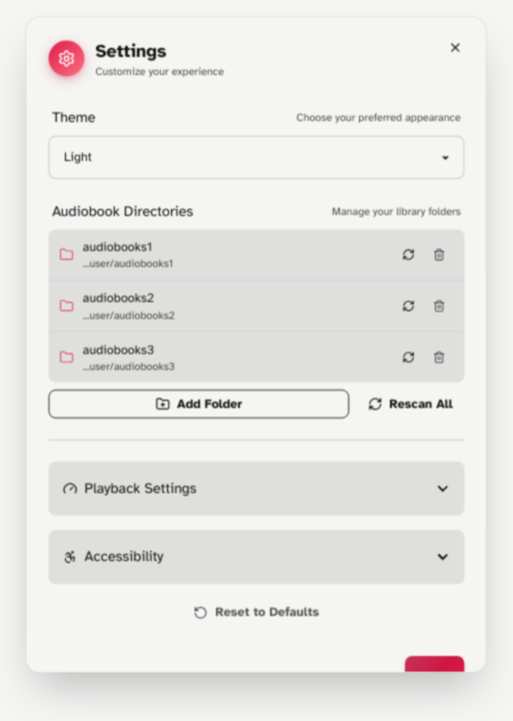
it: SettingsModal - Directory Management › rescan all progress › shows progress indicator during batch rescan
// Click to start rescan - this will trigger the async operation
Click the button with aria-label "Rescan all directories" at [410, 404], box x1=356 y1=390 x2=464 y2=419
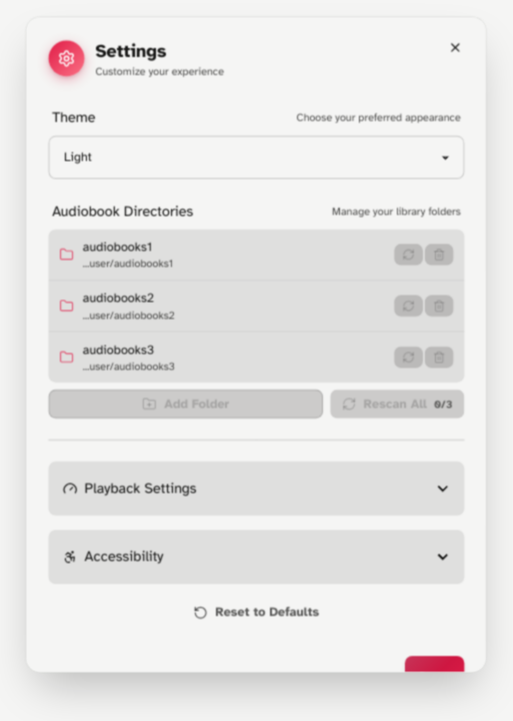
Expected: the button with aria-label "Rescan all directories" is disabled, x1=330 y1=390 x2=464 y2=419
